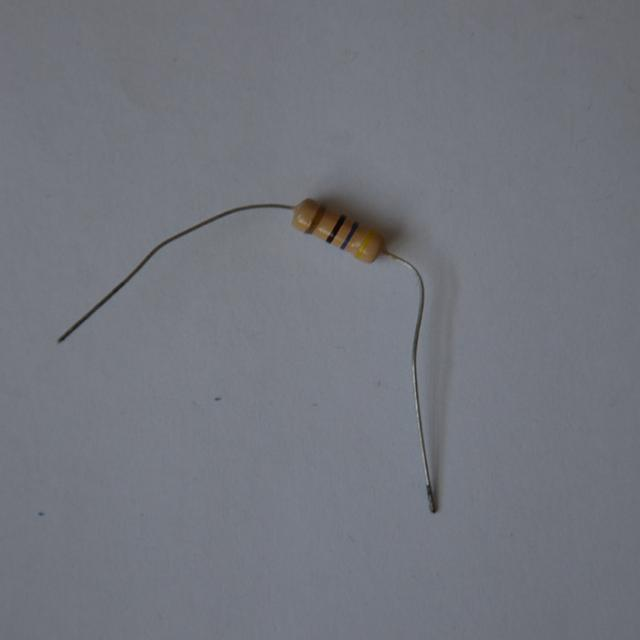brown: (326, 214, 345, 241)
gold: (306, 205, 325, 231)
resistor: (282, 187, 401, 279)
violet: (340, 222, 357, 249)
yellow: (354, 230, 375, 257)
